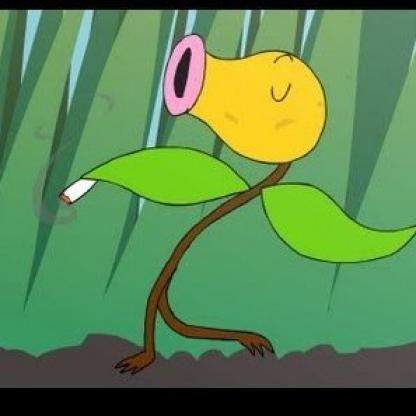Bellsprout: (47, 33, 416, 361)
